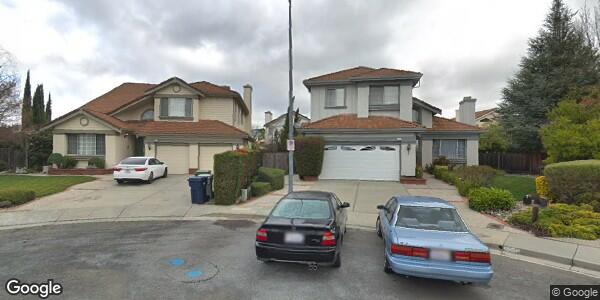Steel_Pole: (283, 1, 296, 190)
